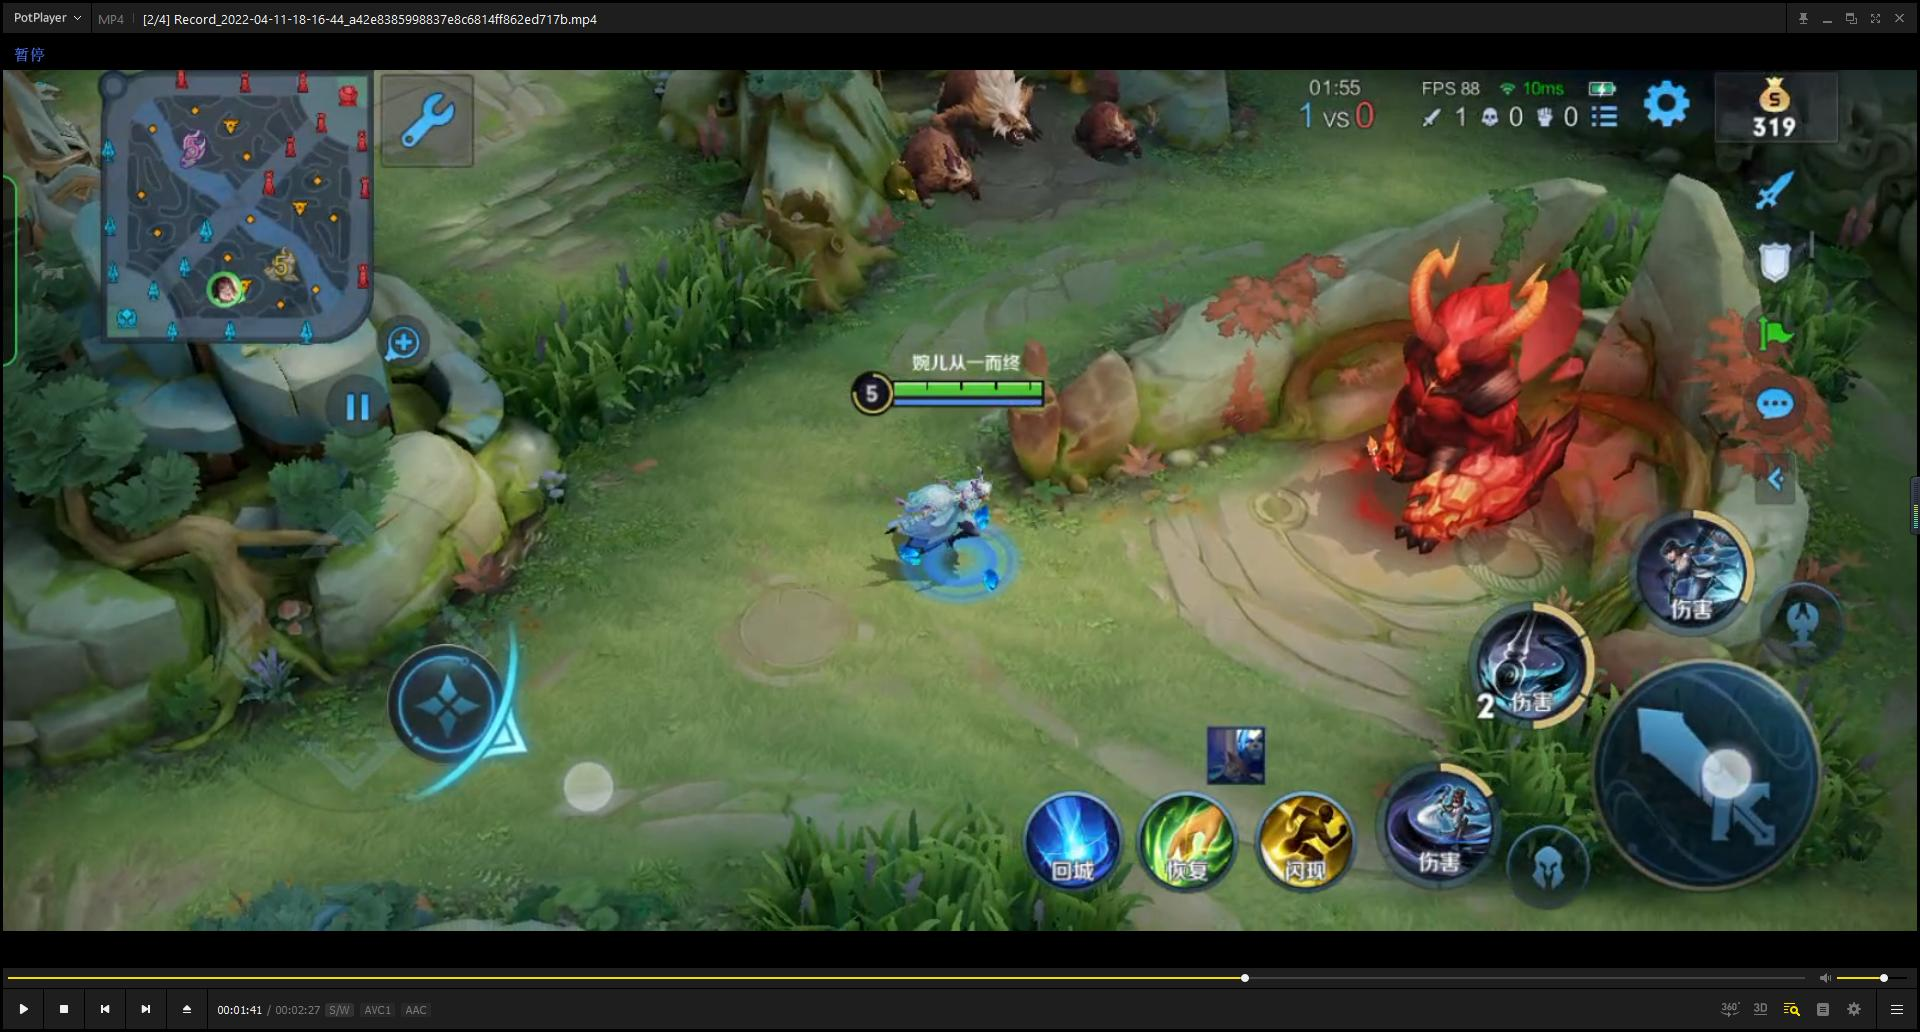Buff: (1335, 227, 1587, 574)
Hero: (869, 459, 1036, 599)
Pig: (879, 95, 1019, 268), (917, 70, 1050, 158), (1062, 72, 1177, 161)
